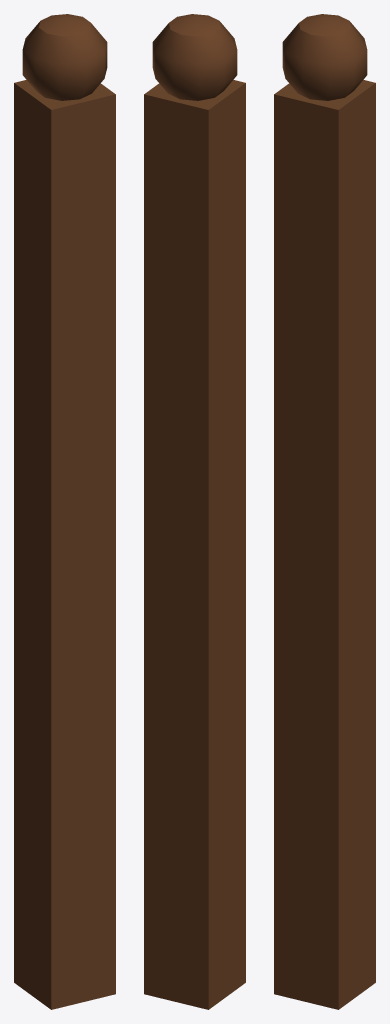
The model's file is circulation.balustrade.newel_timber.glb.
3 renders of one model, left to right at view 1: azimuth 30°, elevation 25°; view 2: azimuth 150°, elevation 25°; view 3: azimuth 330°, elevation 25°, orthographic.
Visible parts, largest first — view 1: main__hardwood; view 2: main__hardwood; view 3: main__hardwood.
Part boxes in pixels (box(x1,y1,x2,y2)): main__hardwood: box(14, 14, 115, 1009); main__hardwood: box(144, 14, 245, 1009); main__hardwood: box(274, 14, 375, 1009).
Size of the model in its own units: 0.0995 by 1.29 by 0.1046.
